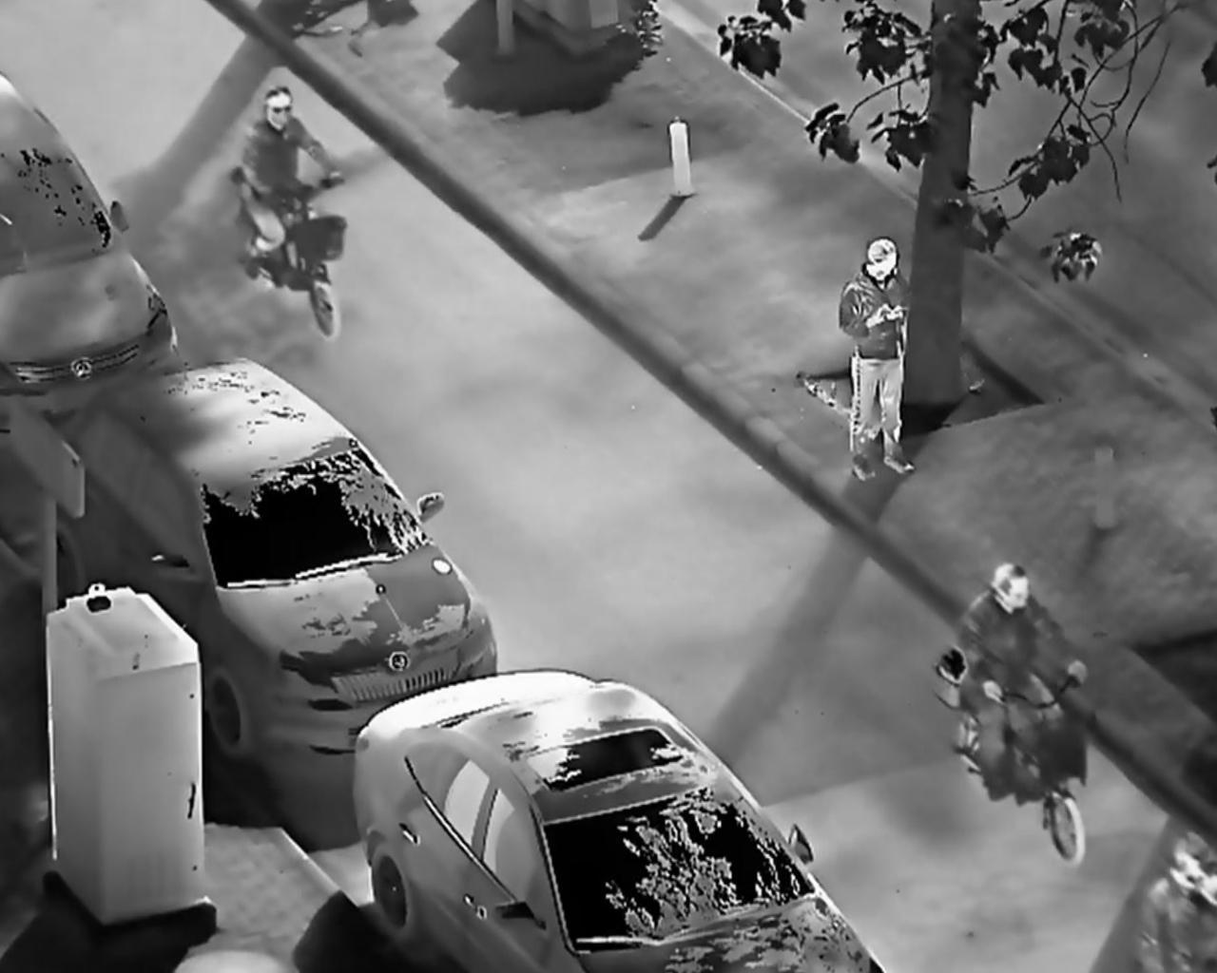person: (951, 563, 1092, 800), (235, 82, 350, 274), (836, 235, 914, 483)
